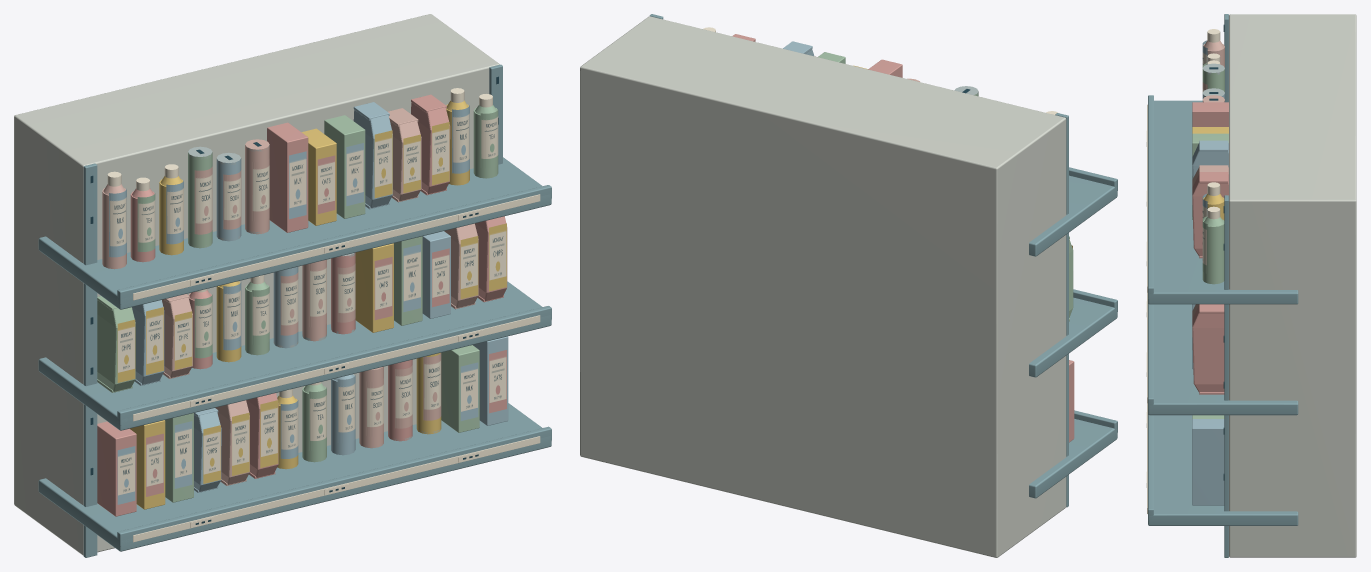
Rendered from stock-wide.glb.
3 renders of one model, left to right at view 1: azimuth 30°, elevation 25°; view 2: azimuth 150°, elevation 25°; view 3: azimuth 270°, elevation 25°, orthographic. The views are drawn at different scales.
Visible parts, largest first — view 1: Original envelope back.003, Folded upright.006, Printed package label.102, Price ticket rail.008, Carton.027, Pillow pouch.029, Carton.025, Carton.026, Pillow pouch.030, Pillow pouch.028, Can.021, Carton.029 (+11 smaller); view 2: Original envelope back.003, Folded upright.006, Carton.025; view 3: Original envelope back.003, Folded upright.006, Pillow pouch.030, Carton.029, Bottle body.029, Price ticket rail.008, Pillow pouch.028, Carton.025, Printed package label.102, Carton.027, Can.027, Pillow pouch.029 (+3 smaller).
Boxes of the visible parts, left/top/right/bottom form: Original envelope back.003: left=14, top=14, right=499, bottom=555; Folded upright.006: left=38, top=64, right=551, bottom=557; Printed package label.102: left=109, top=105, right=506, bottom=504; Price ticket rail.008: left=107, top=88, right=540, bottom=542; Carton.027: left=165, top=115, right=479, bottom=502; Pillow pouch.029: left=162, top=108, right=478, bottom=485; Carton.025: left=97, top=122, right=308, bottom=516; Carton.026: left=130, top=128, right=393, bottom=509; Pillow pouch.030: left=246, top=94, right=507, bottom=478; Pillow pouch.028: left=132, top=102, right=392, bottom=492; Can.021: left=245, top=139, right=383, bottom=448; Carton.029: left=422, top=231, right=508, bottom=425; Original envelope back.003: left=580, top=16, right=1066, bottom=557; Folded upright.006: left=649, top=14, right=1117, bottom=507; Carton.025: left=868, top=59, right=1074, bottom=442; Original envelope back.003: left=1229, top=14, right=1356, bottom=557; Folded upright.006: left=1148, top=14, right=1298, bottom=557; Pillow pouch.030: left=1192, top=172, right=1228, bottom=394; Carton.029: left=1192, top=304, right=1224, bottom=505; Bottle body.029: left=1202, top=217, right=1224, bottom=284; Price ticket rail.008: left=1146, top=29, right=1220, bottom=513; Pillow pouch.028: left=1192, top=140, right=1228, bottom=178; Carton.025: left=1192, top=102, right=1228, bottom=126; Printed package label.102: left=1202, top=40, right=1207, bottom=273; Carton.027: left=1192, top=133, right=1228, bottom=418; Can.027: left=1202, top=69, right=1224, bottom=92; Pillow pouch.029: left=1192, top=165, right=1228, bottom=318.
Bounding box in the file's own units: 2.43 × 2.1 × 1.12.
Materials: 24 (1 with a texture image).
